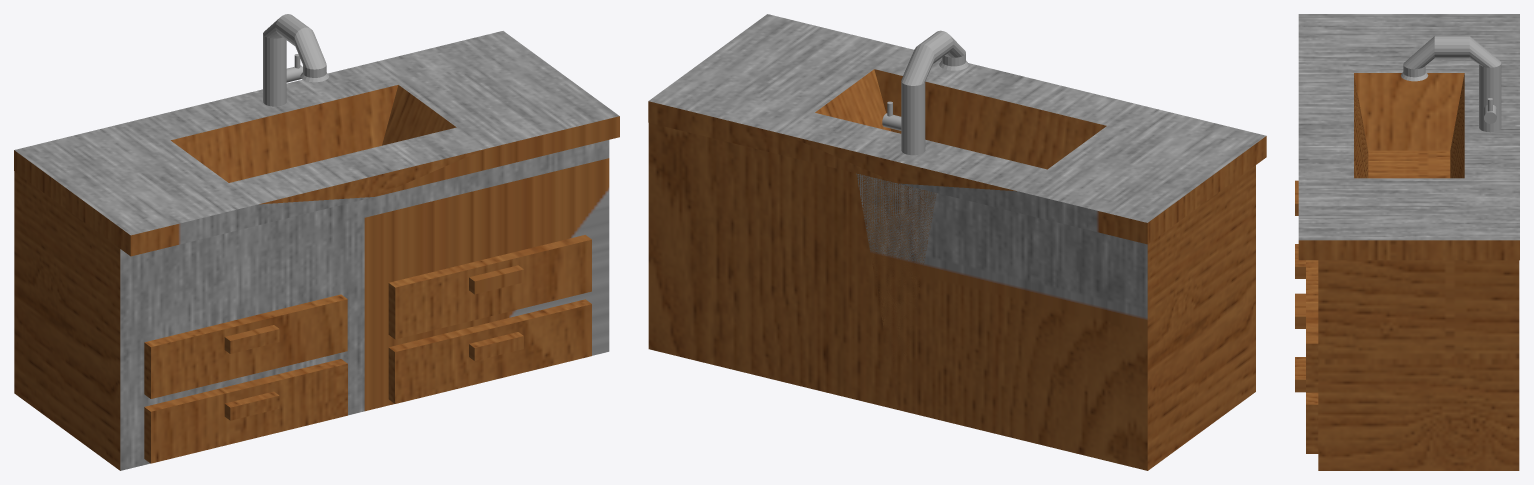
Rendered from sink.fbx.
3 views of the same model, side by side, from view 1: azimuth 30°, elevation 25°; view 2: azimuth 150°, elevation 25°; view 3: azimuth 270°, elevation 25° (orthographic). The views are drawn at different scales.
Visible parts, largest first — view 1: pasted__pasted__pasted__Counter, pCylinder1; view 2: pasted__pasted__pasted__Counter, pCylinder1; view 3: pasted__pasted__pasted__Counter, pCylinder1.
Boxes of the visible parts, x1,y1,x2,y2 form: pasted__pasted__pasted__Counter: (14, 31, 619, 470); pCylinder1: (263, 14, 329, 106); pasted__pasted__pasted__Counter: (648, 14, 1266, 470); pCylinder1: (901, 30, 968, 155); pasted__pasted__pasted__Counter: (1295, 14, 1519, 470); pCylinder1: (1401, 36, 1501, 132).
Bounding box in the file's own units: 13.89 × 9.19 × 5.83.
2 materials, 1 textured.
